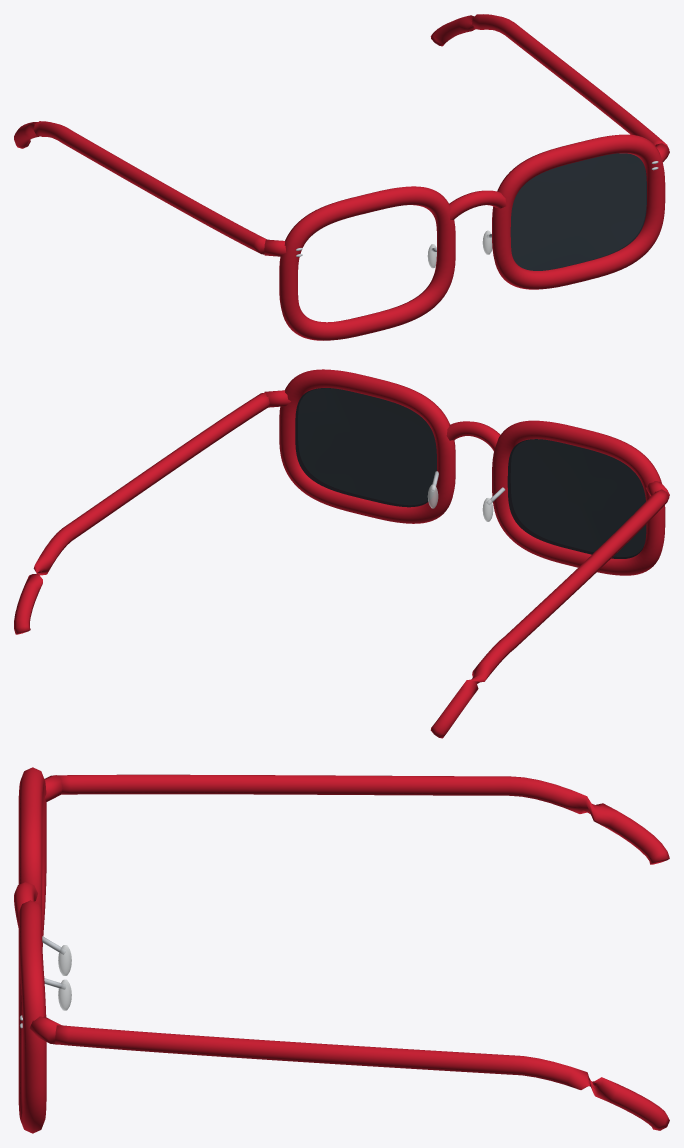
File: tim-07-v1.glb
3 views of the same model, one above another, from view 1: azimuth 30°, elevation 25°; view 2: azimuth 150°, elevation 25°; view 3: azimuth 270°, elevation 25° (orthographic). The views are drawn at different scales.
Parts seen in each view (by area): view 1: lens_left, rim_right, rim_left, temple_right, temple_left, bridge; view 2: lens_left, lens_right, rim_left, rim_right, temple_left, temple_right, bridge; view 3: temple_right, temple_left, rim_left, rim_right, endpiece_left.
Boxes of the visible parts, box(x1,y1,x2,y2) form: lens_left: box(510, 153, 646, 270); rim_right: box(279, 186, 455, 340); rim_left: box(492, 134, 665, 289); temple_right: box(14, 121, 266, 254); temple_left: box(430, 14, 669, 149); bridge: box(449, 190, 506, 219); lens_left: box(295, 388, 436, 507); lens_right: box(507, 439, 646, 558); rim_left: box(279, 369, 455, 523); rim_right: box(492, 420, 665, 575); temple_left: box(14, 392, 269, 634); temple_right: box(430, 489, 669, 738); bridge: box(446, 421, 500, 450); temple_right: box(57, 774, 669, 864); temple_left: box(55, 1025, 669, 1130); rim_left: box(18, 900, 46, 1133); rim_right: box(18, 767, 46, 946); endpiece_left: box(29, 1016, 61, 1044).
Size of the model in its own units: 0.1578 by 0.046 by 0.1521.
